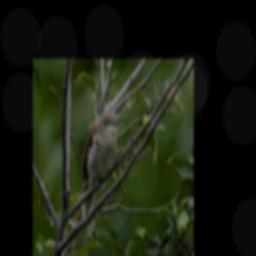Cuckoo: (81, 109, 121, 220)
